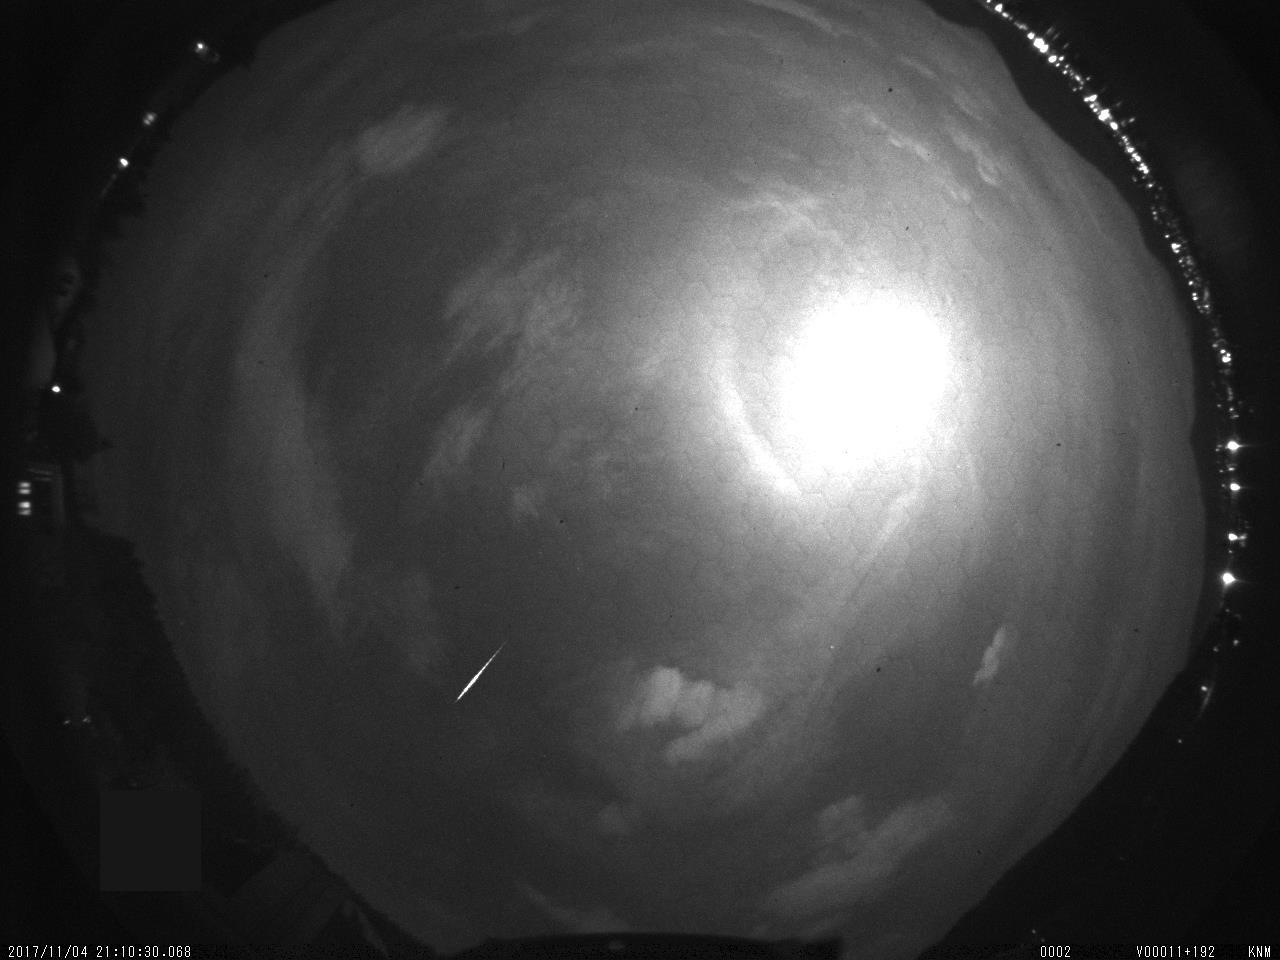meteor: (436, 639, 518, 708)
